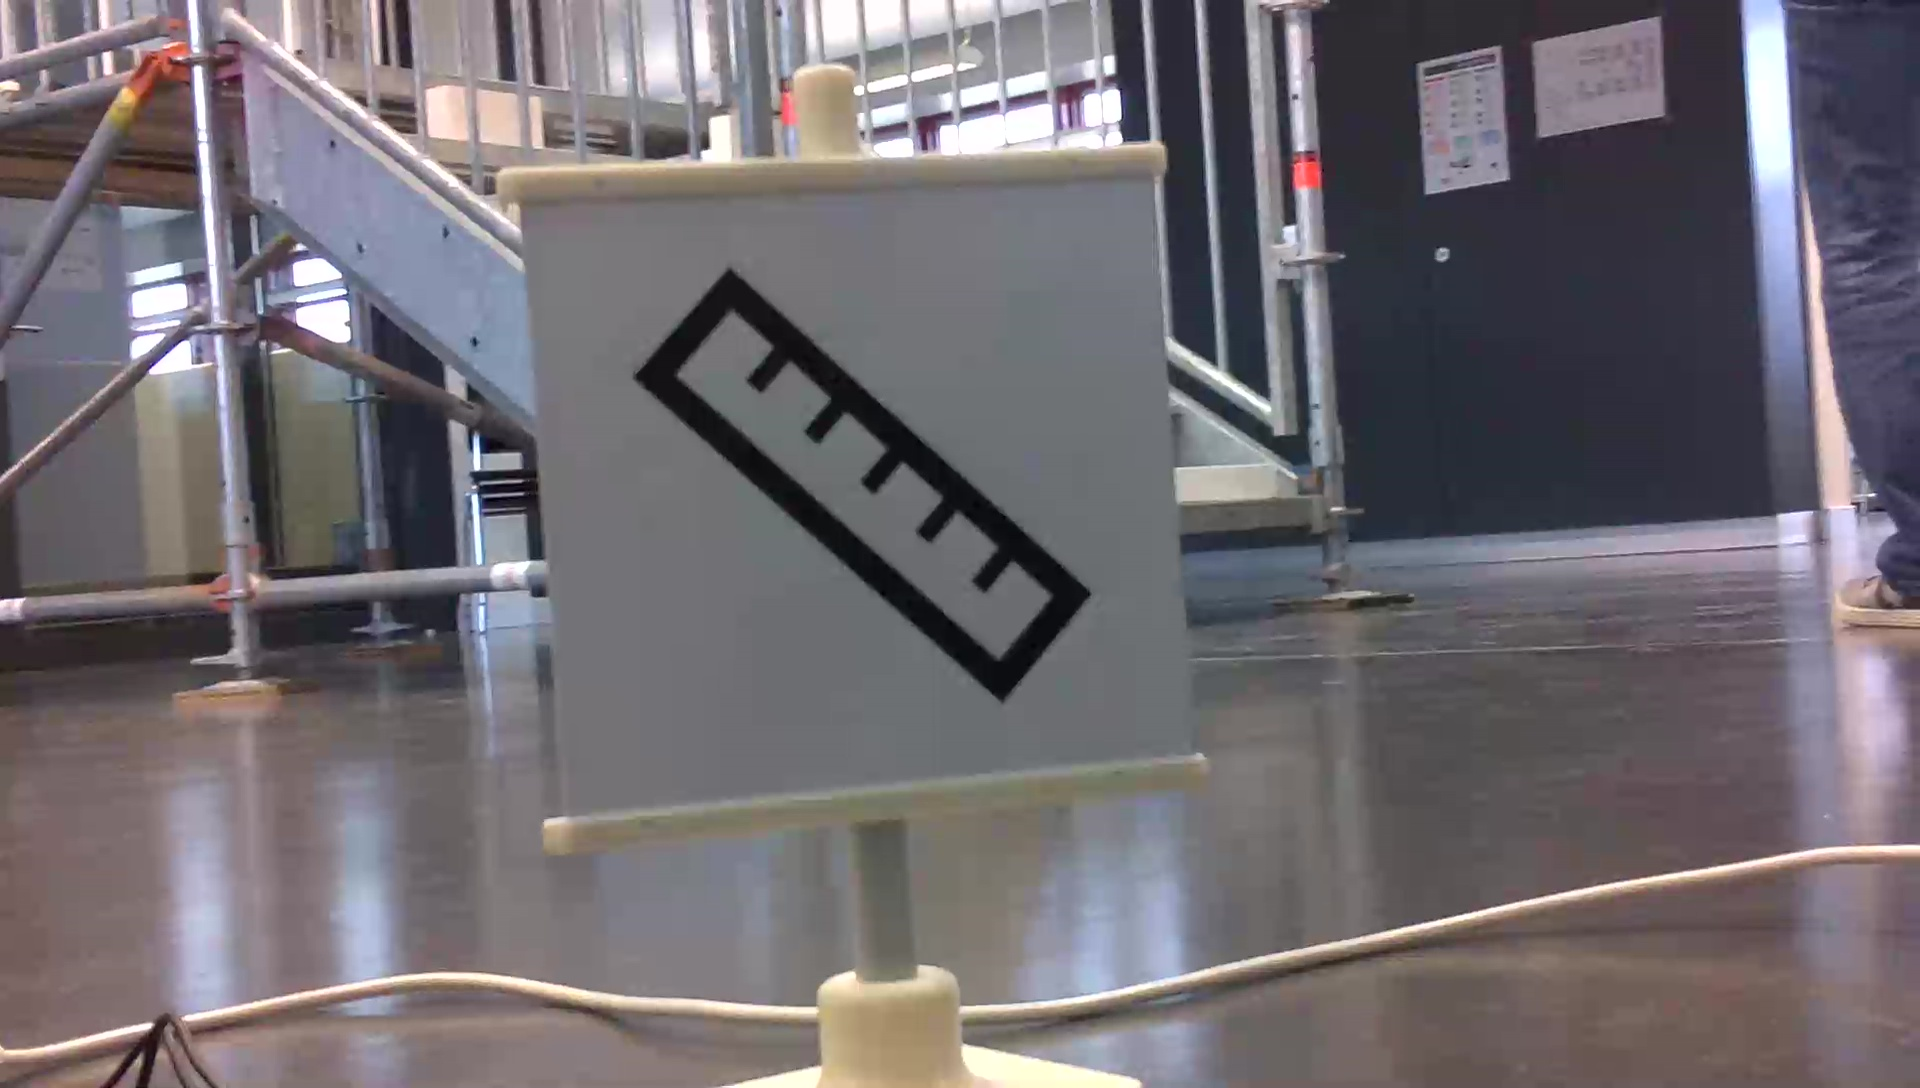ruler: (634, 257, 1098, 702)
